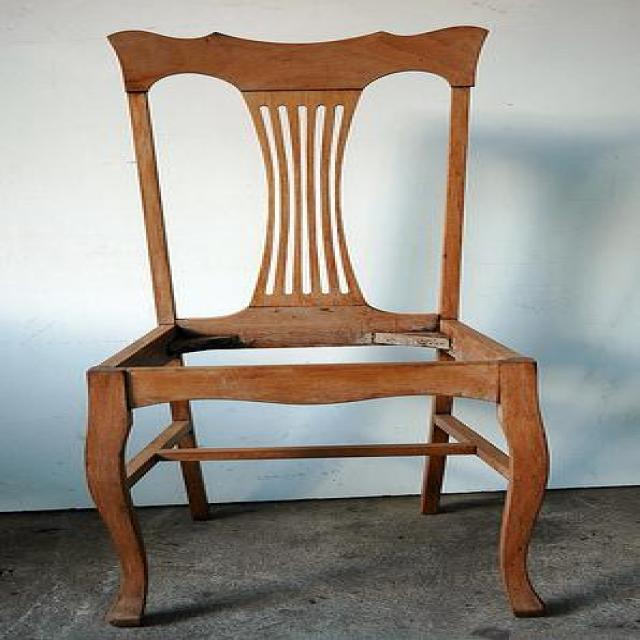chair: (79, 26, 566, 630)
